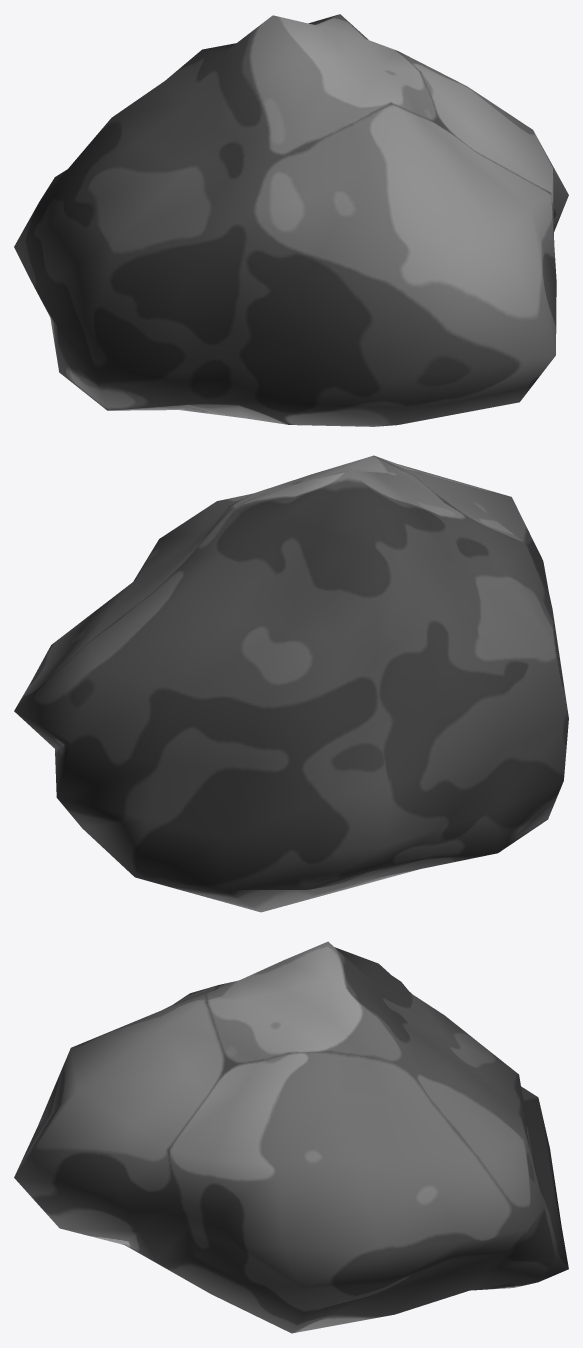
The model's file is Rock_Mesh_5.FBX.
The picture shows the model from 3 angles, top to bottom: view 1: azimuth 30°, elevation 25°; view 2: azimuth 150°, elevation 25°; view 3: azimuth 270°, elevation 25°; orthographic projection. The views are drawn at different scales.
Visible parts, largest first — view 1: CartoonRock_5; view 2: CartoonRock_5; view 3: CartoonRock_5.
Part boxes in pixels (x1,y1,x2,y2): CartoonRock_5: (14,14,568,426); CartoonRock_5: (14,455,568,912); CartoonRock_5: (14,941,568,1333).
Bounding box in the file's own units: 3.64 × 2.67 × 4.24.
1 material, 1 textured.
